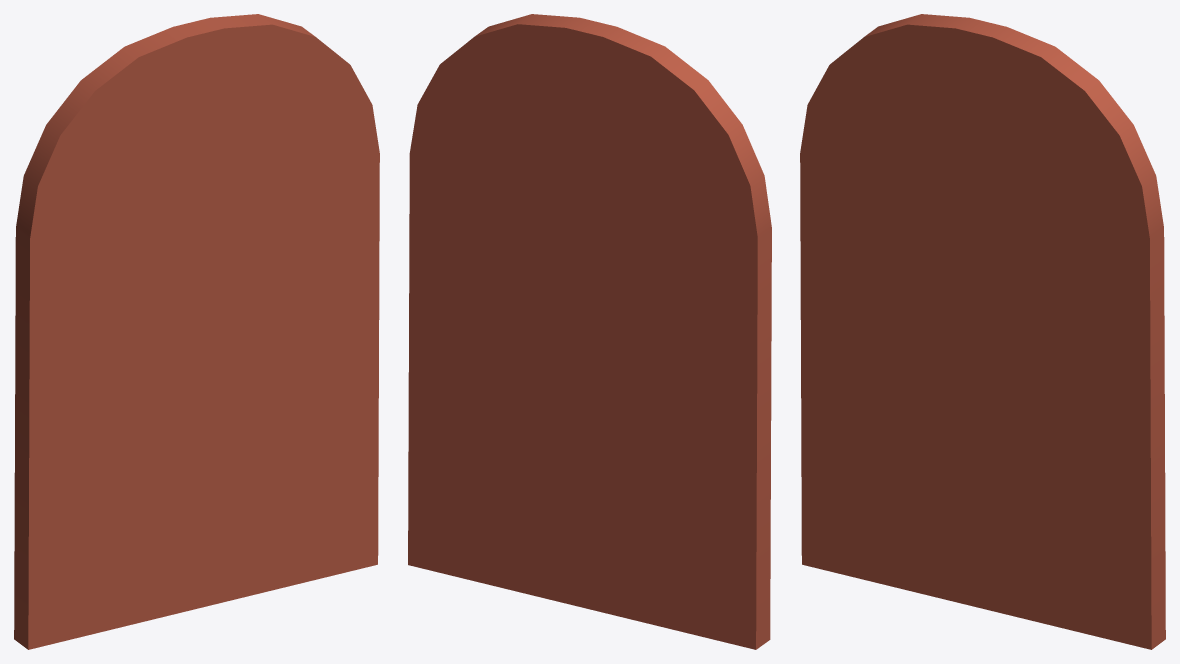
File: keypad.fbx
3 renders of one model, left to right at view 1: azimuth 30°, elevation 25°; view 2: azimuth 150°, elevation 25°; view 3: azimuth 330°, elevation 25°, orthographic.
Parts seen in each view (by area): view 1: Cube.001; view 2: Cube.001; view 3: Cube.001.
Part boxes in pixels (x1,y1,x2,y2): Cube.001: (14,14,379,649); Cube.001: (408,14,771,649); Cube.001: (800,14,1165,649).
Bounding box in the file's own units: 234 × 368 × 19.29.
